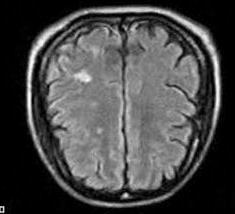Normal_Brain: (26, 1, 235, 214)
